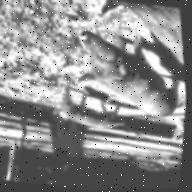boar: (67, 26, 188, 123)
